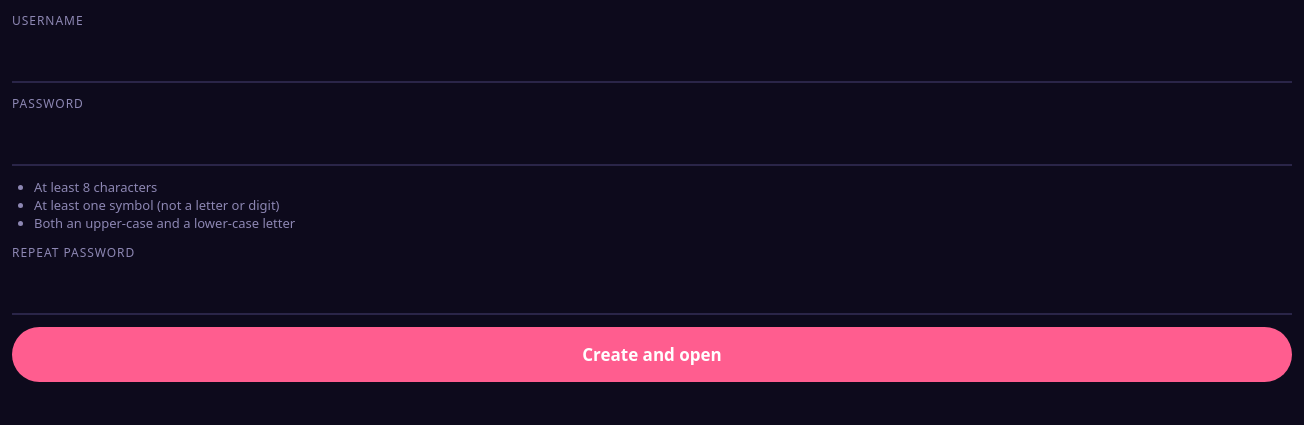
Test case: SetupForm password policy › rejects a password without both cases
Type "anna" into the field labelled "Username" at (652, 58), box [12, 33, 1292, 83]
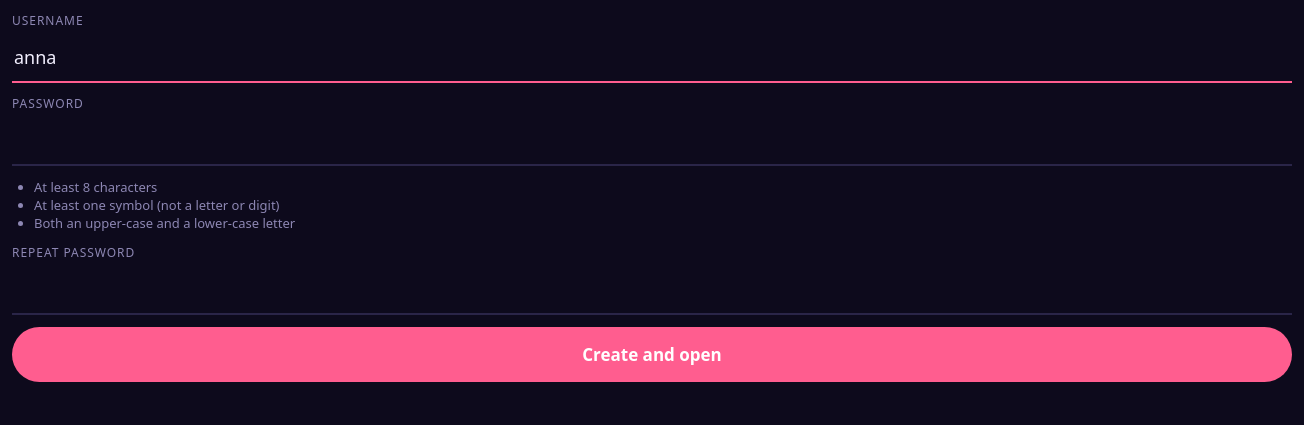
Type "abcdef1!" into the password field labelled "Password" at (652, 141), box [12, 116, 1292, 166]
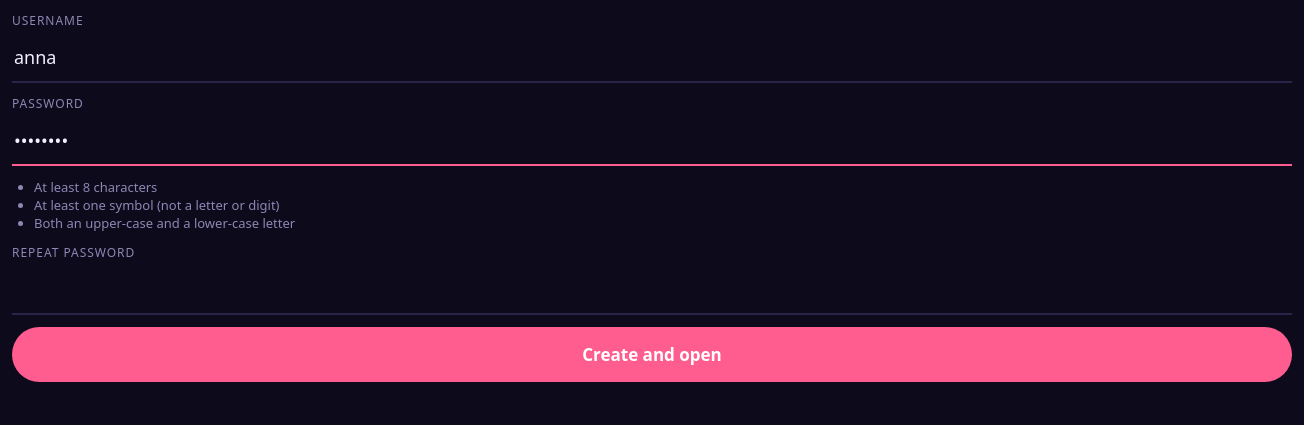
Type "abcdef1!" into the password field labelled "Repeat password" at (652, 290), box [12, 265, 1292, 315]
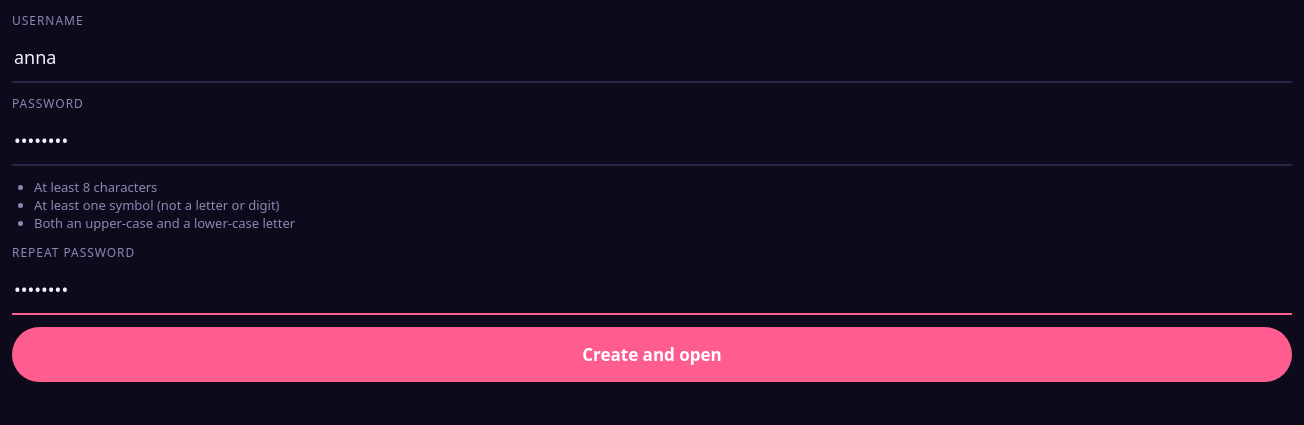
Click the button "Create and open" at (652, 354), box [12, 327, 1292, 382]
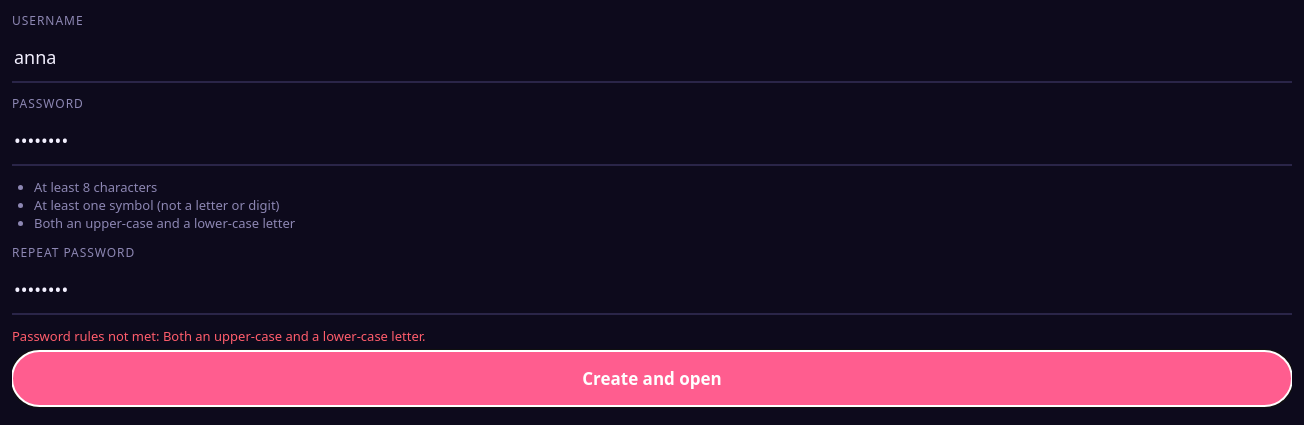
Expected: the message does not show "symbol", [12, 327, 426, 345]
Result: the message shows "upper-case and a lower-case" at [12, 327, 426, 345]
